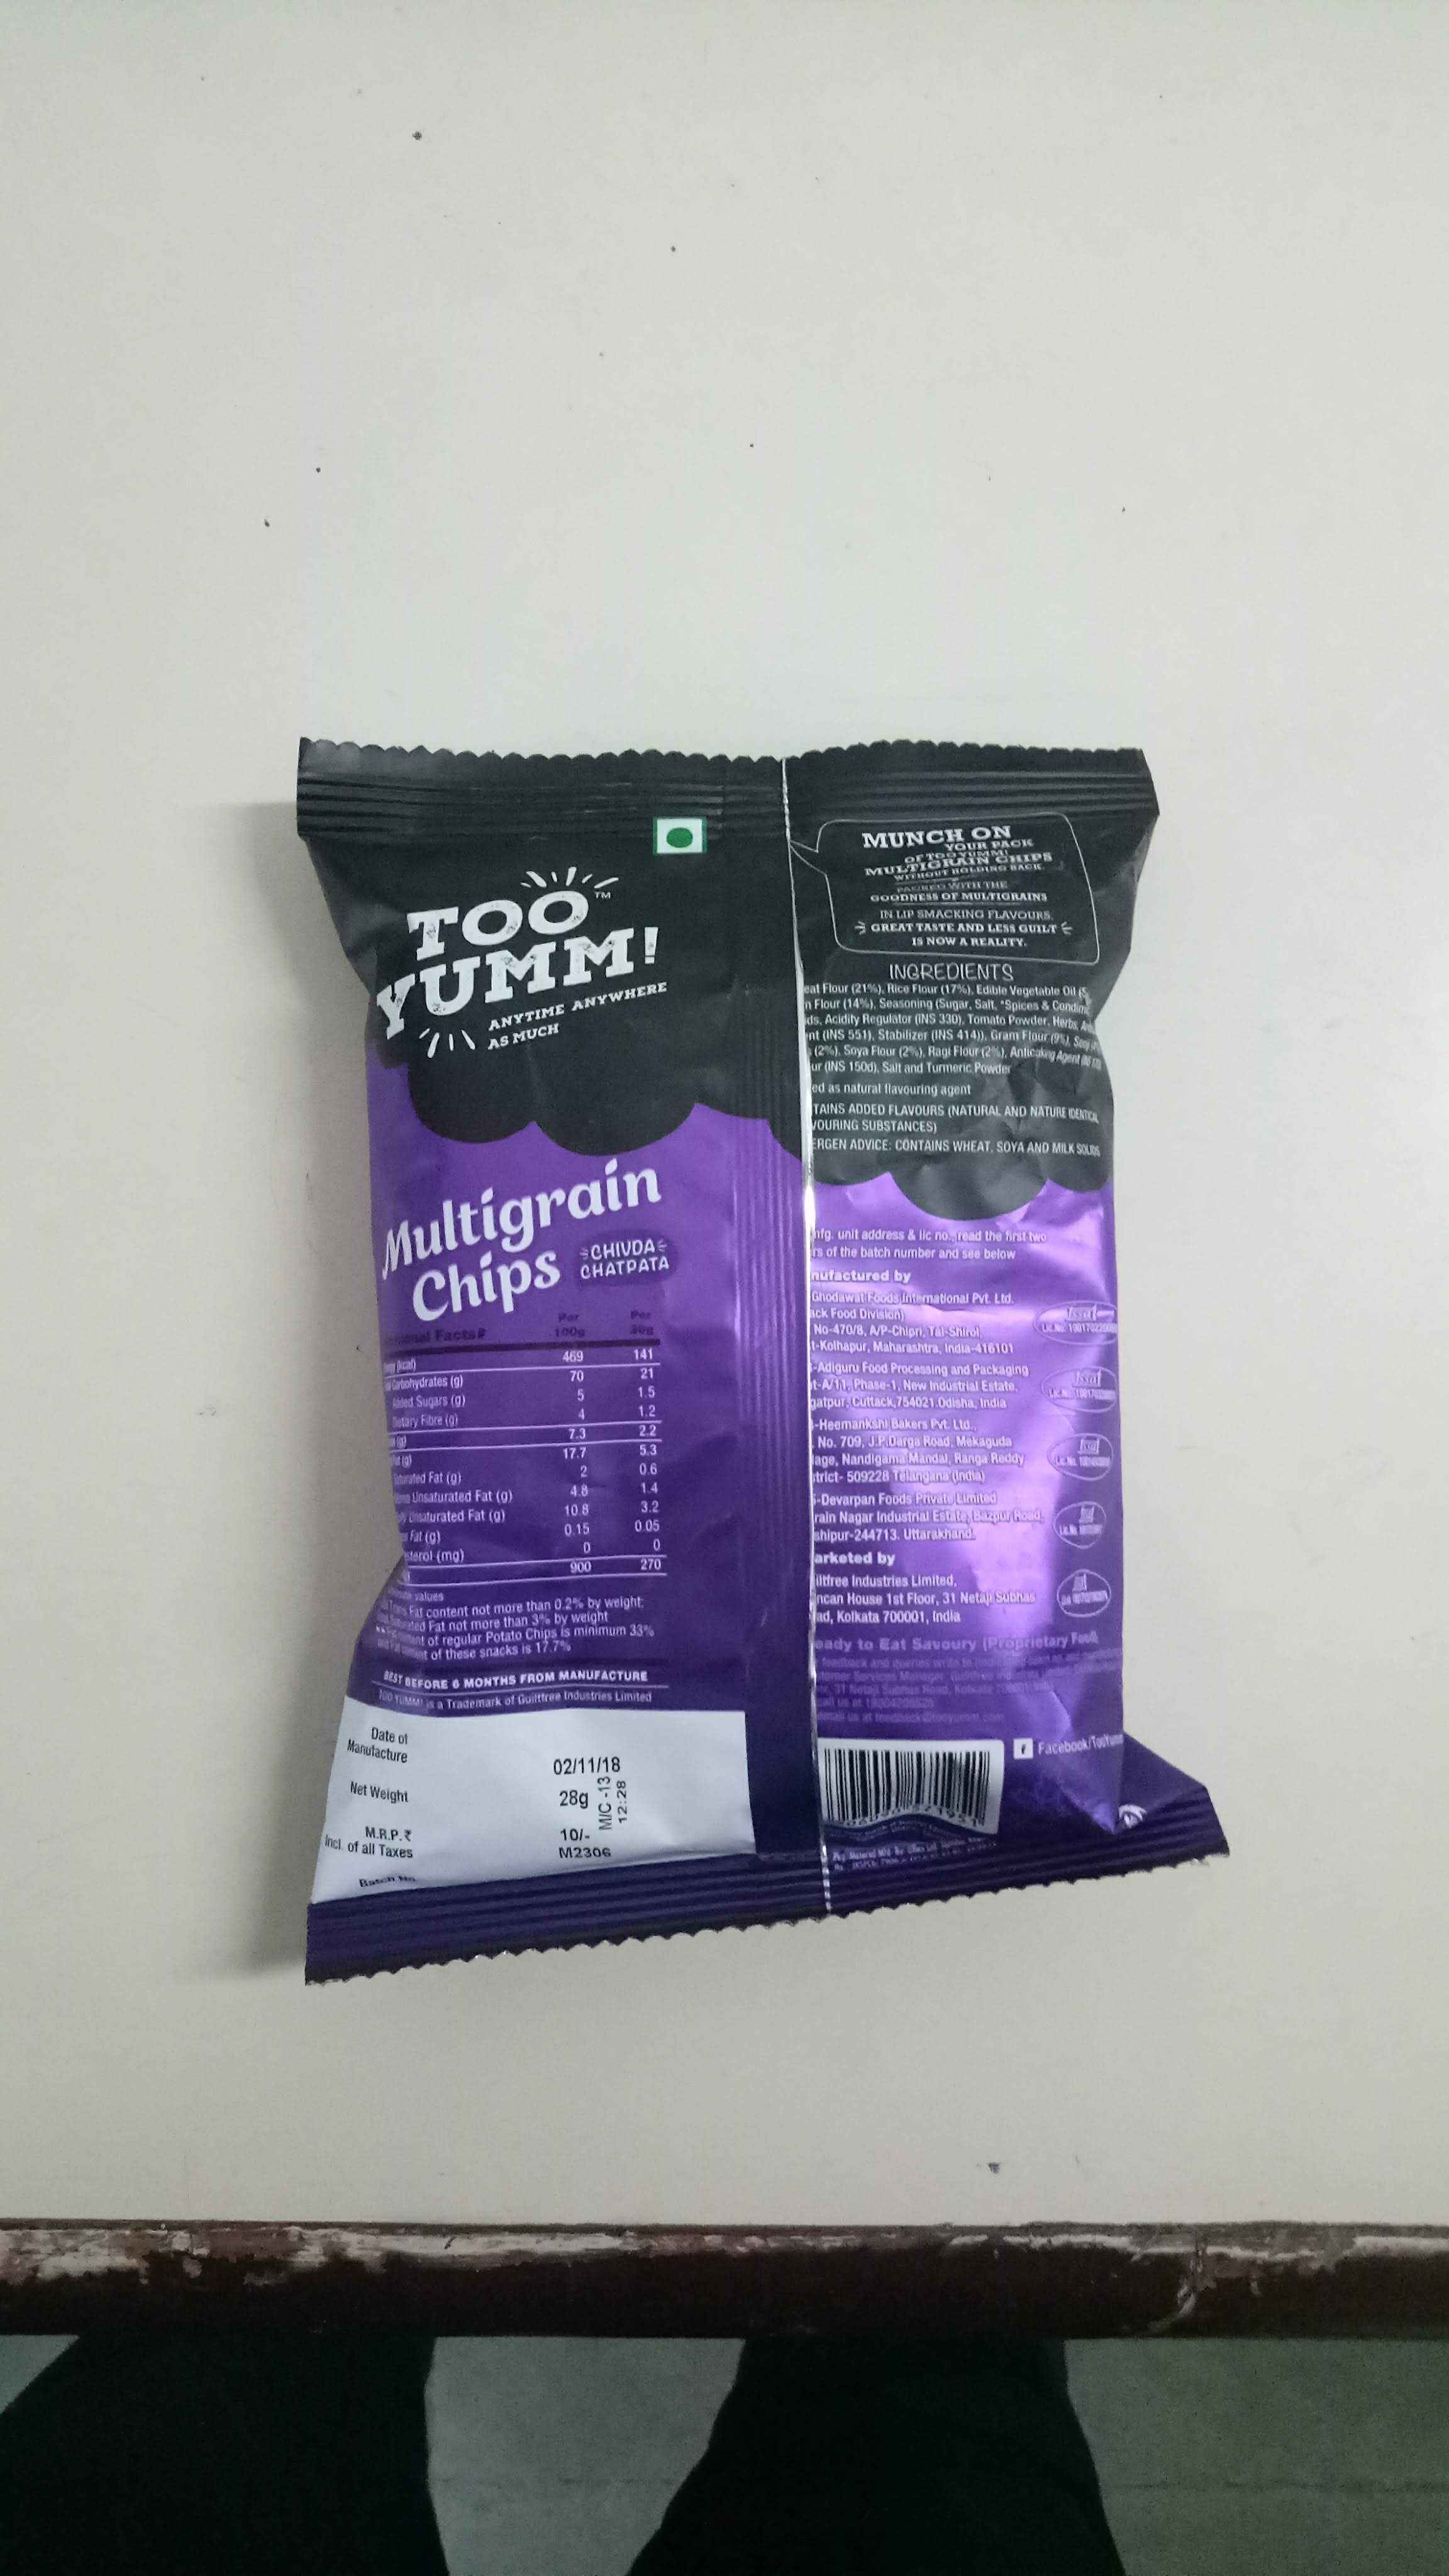tooyumm: (375, 865, 688, 1090)
